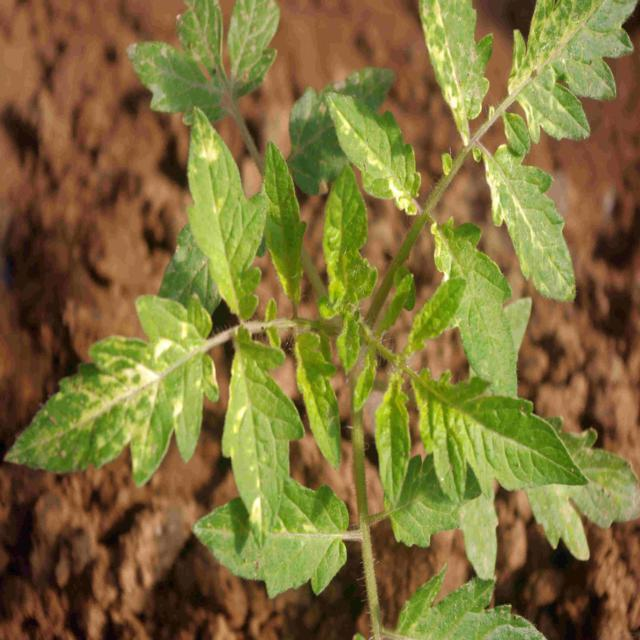Early_blight: (63, 320, 215, 472), (507, 1, 597, 137), (419, 1, 484, 139), (184, 111, 221, 176), (383, 172, 417, 217), (483, 166, 506, 226), (246, 491, 264, 531)
